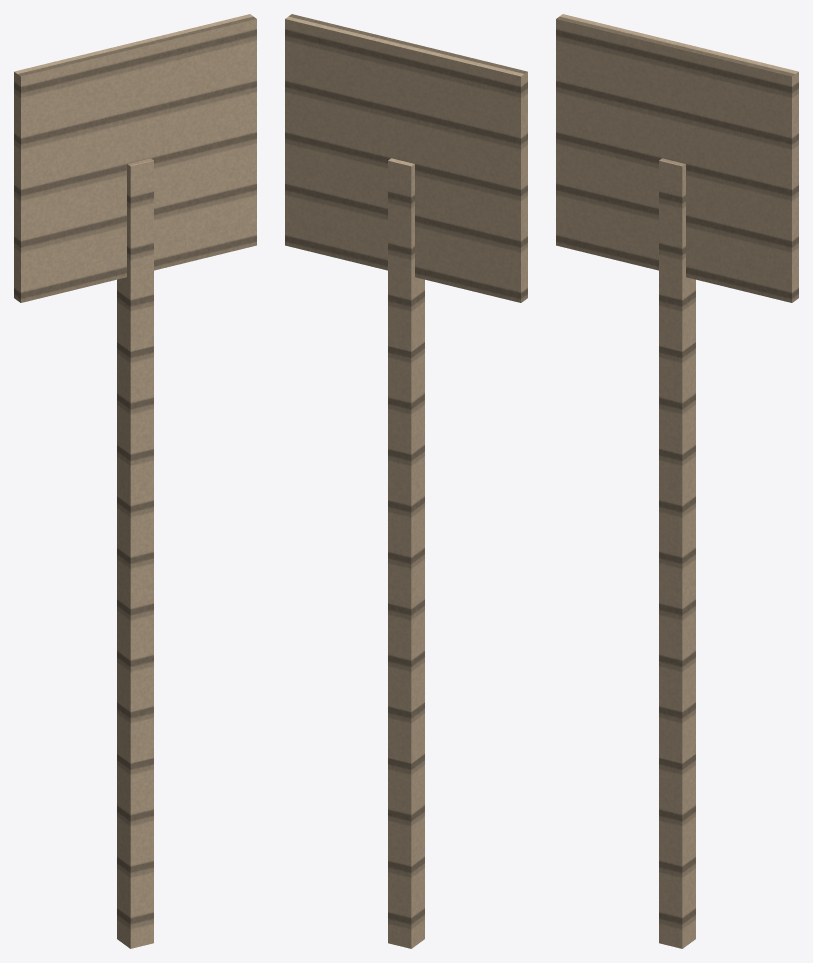
Rendered from yield_sign.glb.
3 views of the same model, side by side, from view 1: azimuth 30°, elevation 25°; view 2: azimuth 150°, elevation 25°; view 3: azimuth 330°, elevation 25° (orthographic).
Parts seen in each view (by area): view 1: yield_sign-col; view 2: yield_sign-col; view 3: yield_sign-col.
Boxes of the visible parts, x1=… form: yield_sign-col: x1=14, y1=14, x2=256, y2=948; yield_sign-col: x1=285, y1=14, x2=527, y2=948; yield_sign-col: x1=556, y1=14, x2=798, y2=948.
Bounding box in the file's own units: 0.6 × 2.18 × 0.06.
Materials: 1 (1 with a texture image).
